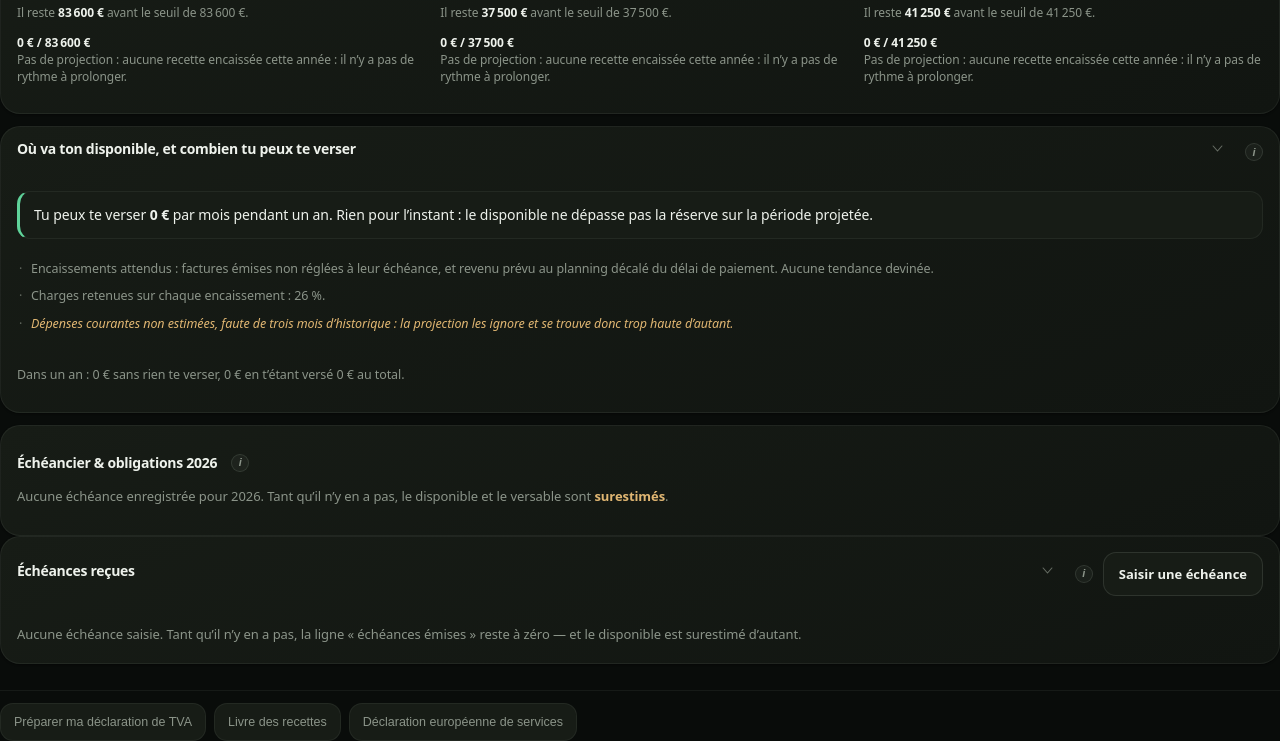
numéro de TVA de l’entreprise › ne le réclame pas quand aucune déclaration n’est due
(page scrolled)
Click the button "Déclaration européenne de services": (463, 722) [349,703,577,740]
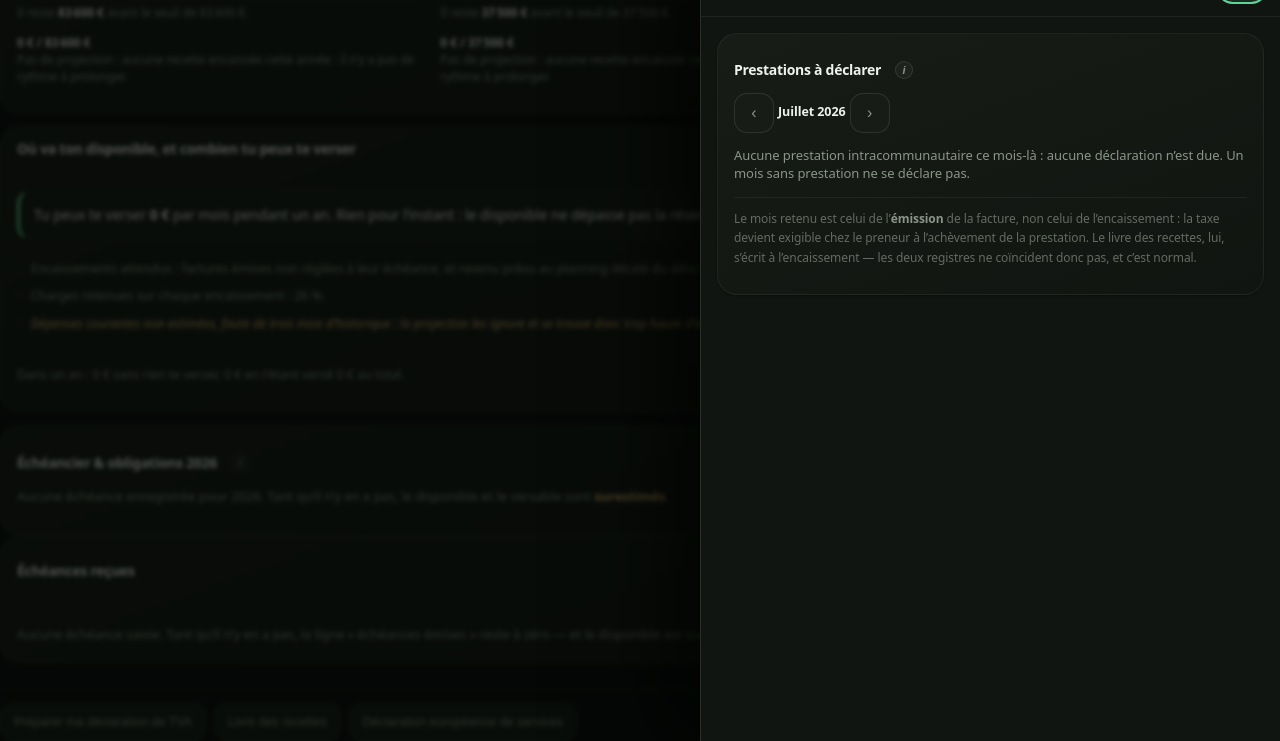
Check: the heading "Prestations à déclarer" is shown, box [734,60,881,79]
